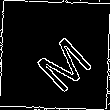M_NW: (21, 21, 89, 89)
